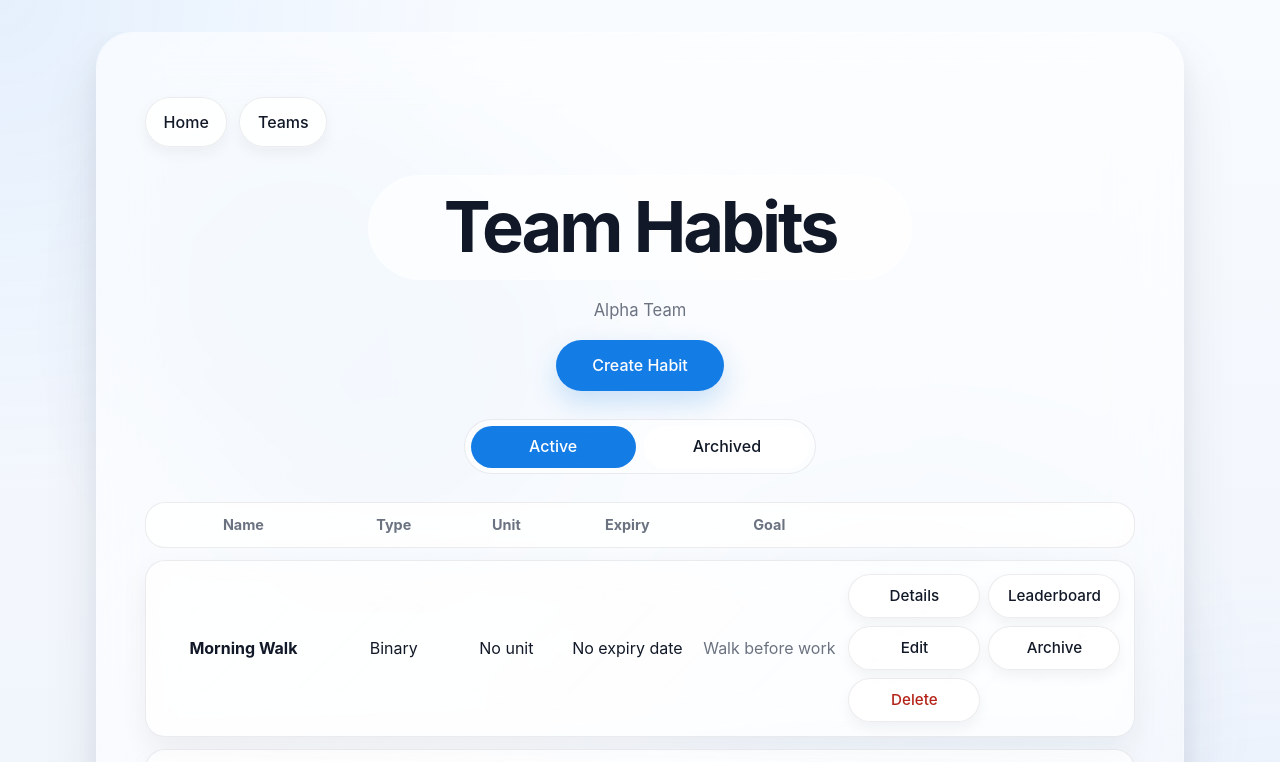
it: shows error on failed archive
Expected: the text "Morning Walk" is shown, [189, 638, 298, 658]
Click the button "Archive" at (1054, 648), box [988, 626, 1120, 670]
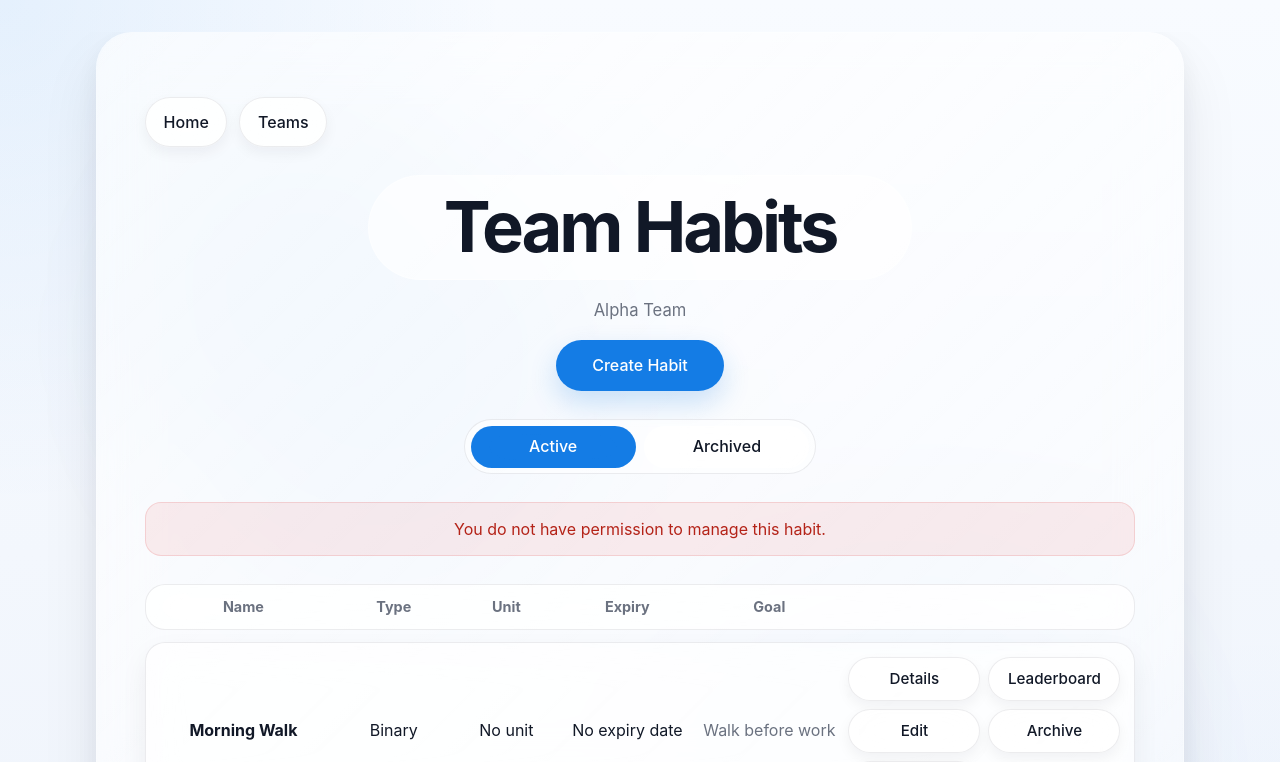
Expected: the message reads "You do not have permission to manage this habit.", [454, 519, 826, 539]
